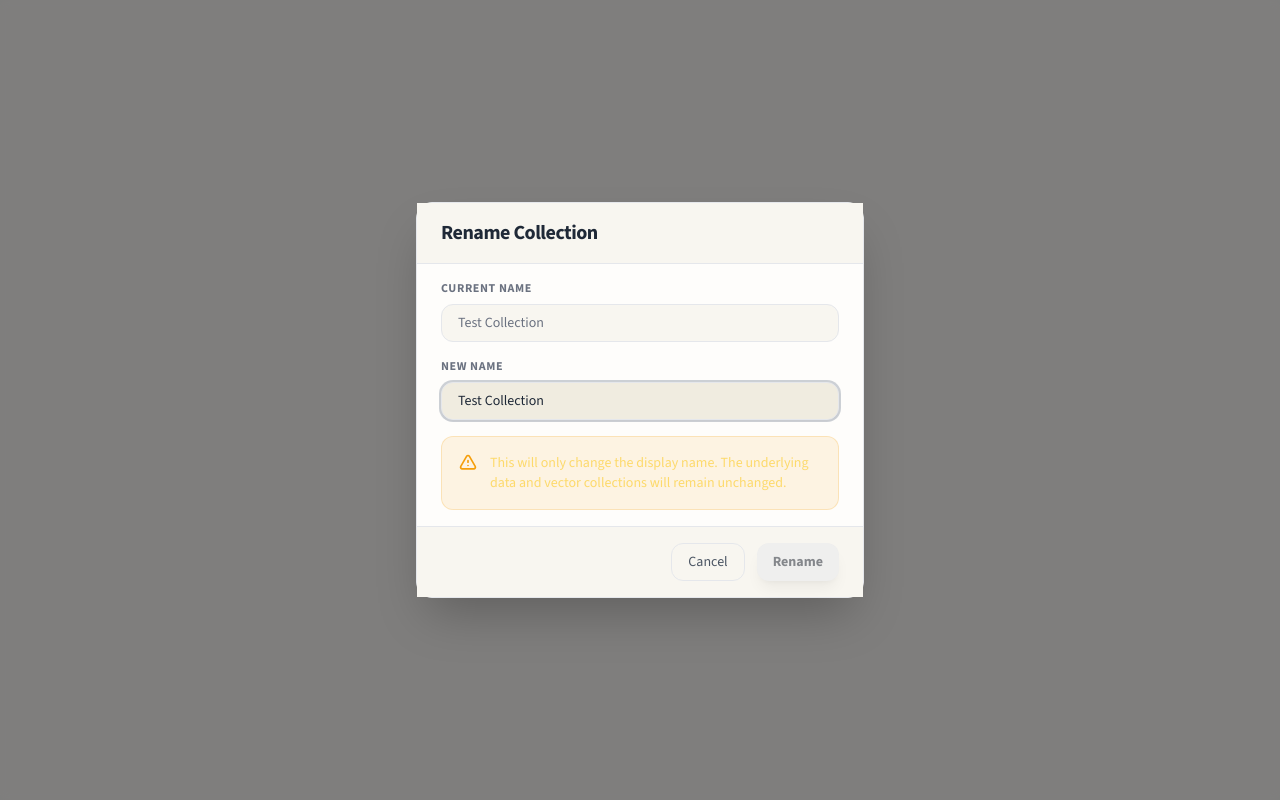
it: RenameCollectionModal › Error Handling › should show error when rename fails with API error
Note: Change name and submit
Clear the field labelled "New Name" at [640, 401], box 441,382 -> 839,420
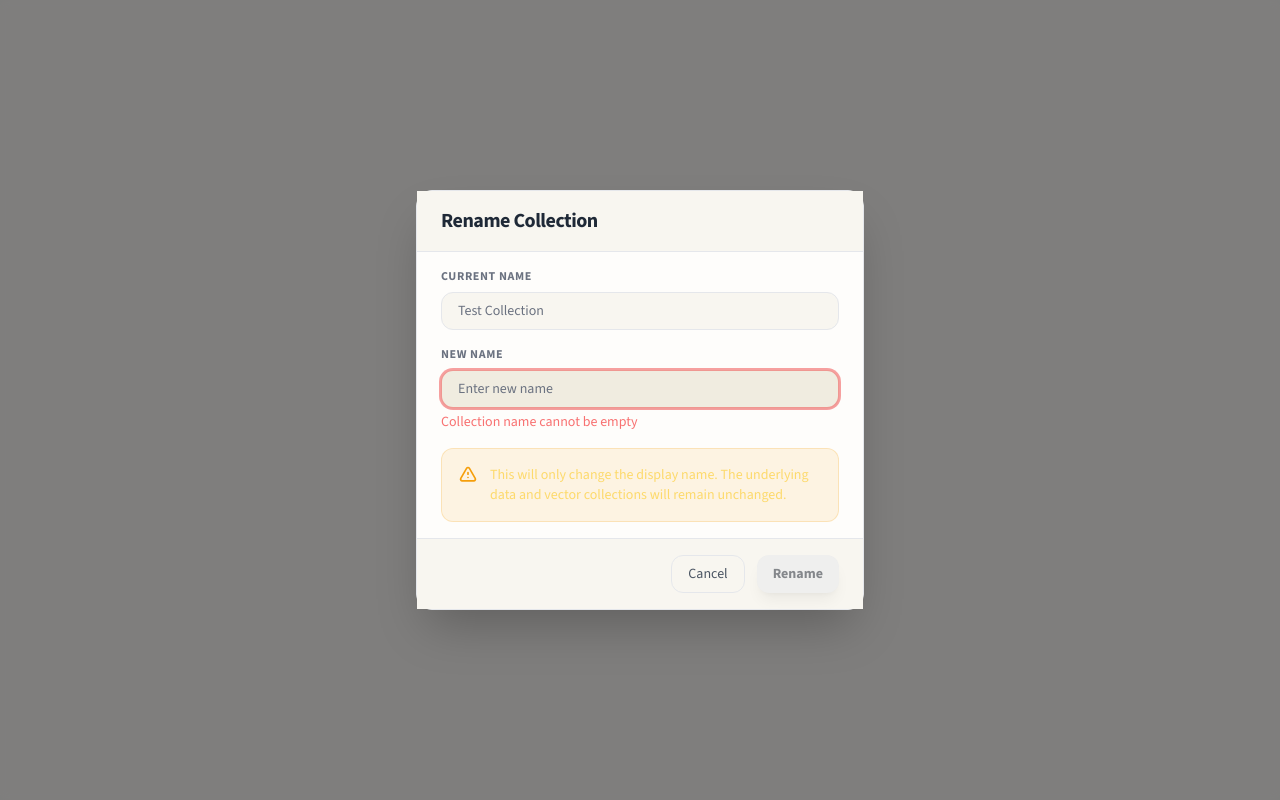
Type "Duplicate Name" into the field labelled "New Name".
click(640, 389); type("Duplicate Name")  # box 441,370 -> 839,408
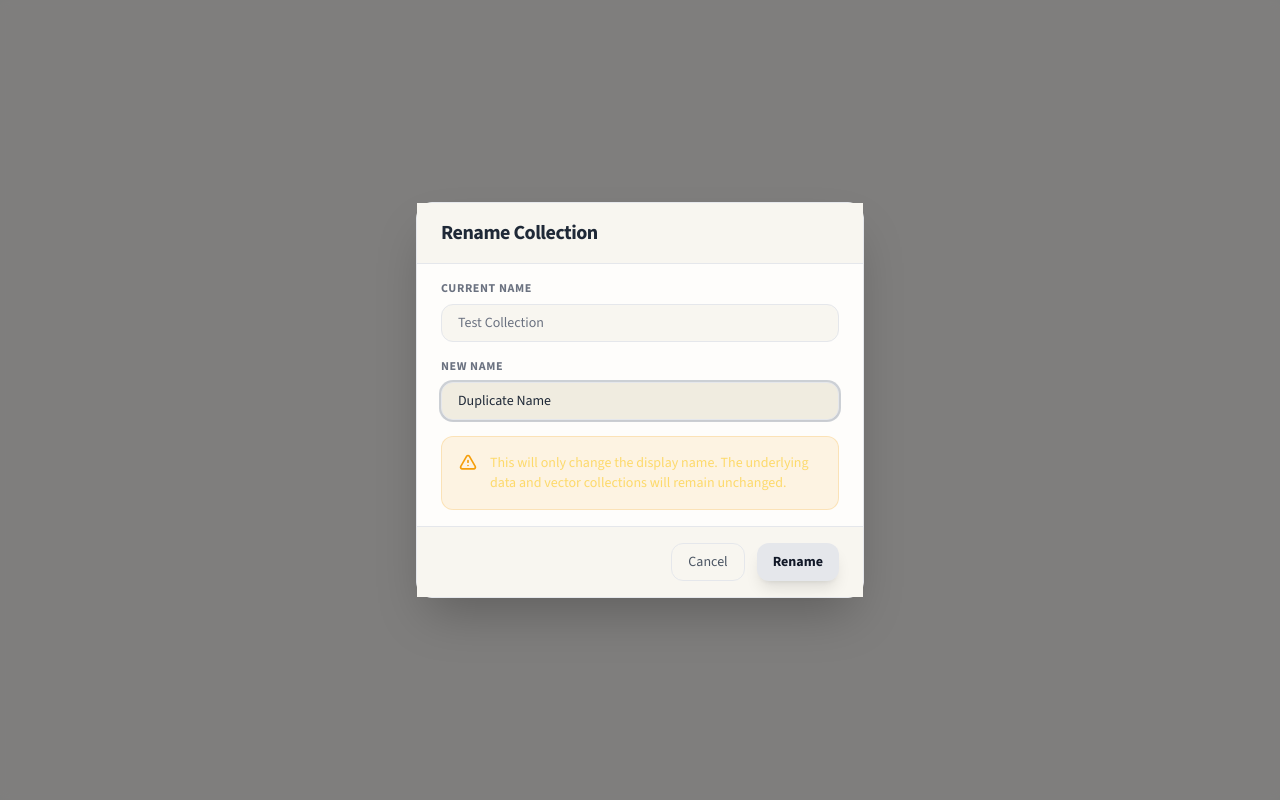
Click the button "Rename".
click(798, 562)  # box 757,543 -> 839,581
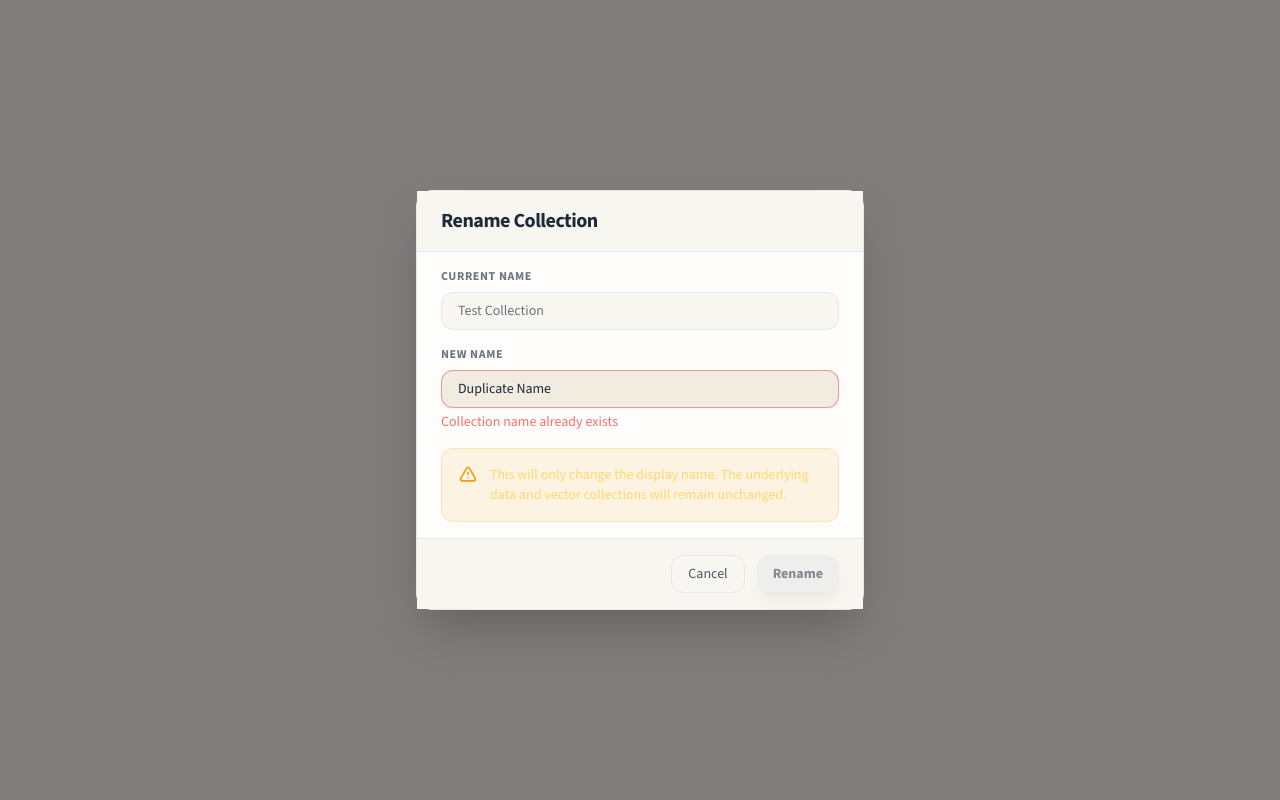
expect the text "Collection name already exists" is shown: met, box 441,412 -> 618,431
